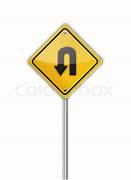back: (26, 22, 104, 98)
